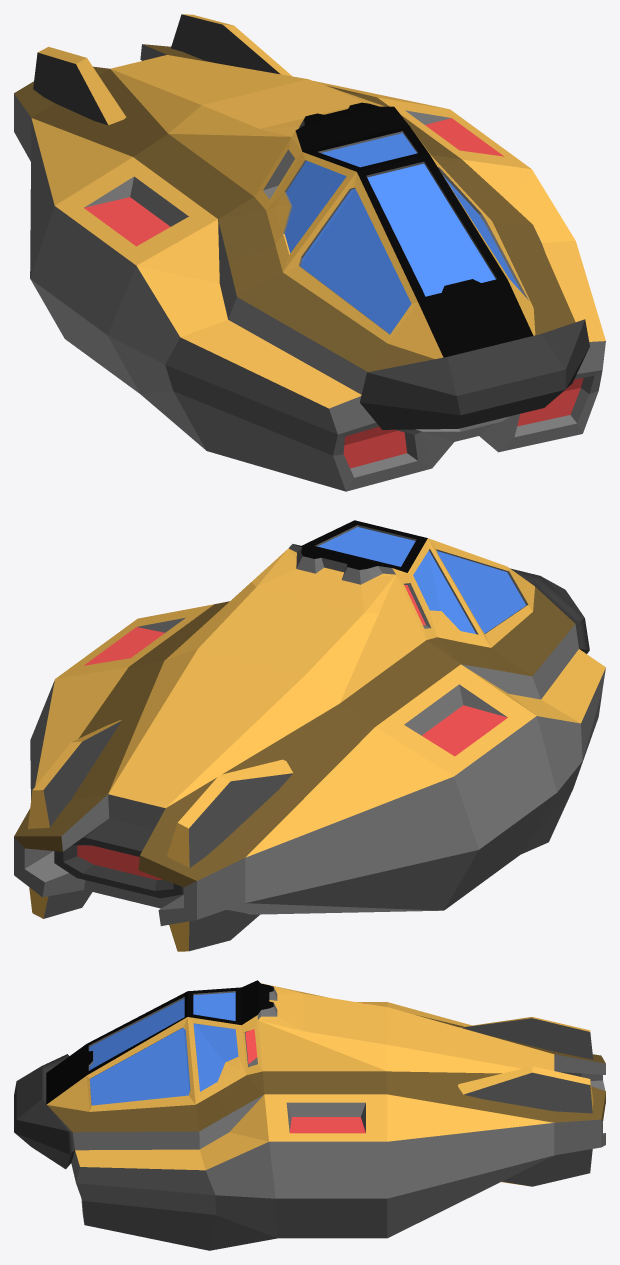
Rendered from Ship_2x3_B1.fbx.
3 renders of one model, top to bottom at view 1: azimuth 30°, elevation 25°; view 2: azimuth 150°, elevation 25°; view 3: azimuth 270°, elevation 25°, orthographic. The views are drawn at different scales.
Visible parts, largest first — view 1: Ship_2x3_B1; view 2: Ship_2x3_B1; view 3: Ship_2x3_B1.
Boxes of the visible parts, x1,y1,x2,y2 form: Ship_2x3_B1: (14,14,605,491); Ship_2x3_B1: (14,520,605,951); Ship_2x3_B1: (14,980,605,1250).
Size of the model in its own units: 174 by 99.93 by 277.
